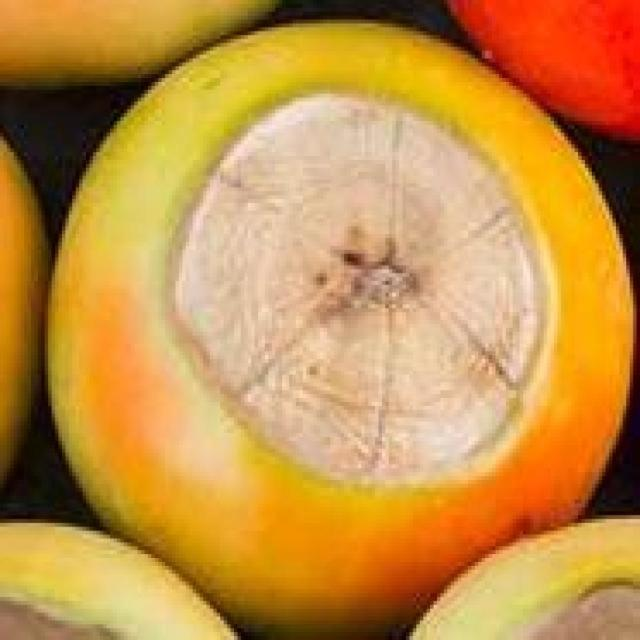Blossom End Rot Fruit: (81, 39, 384, 405)
